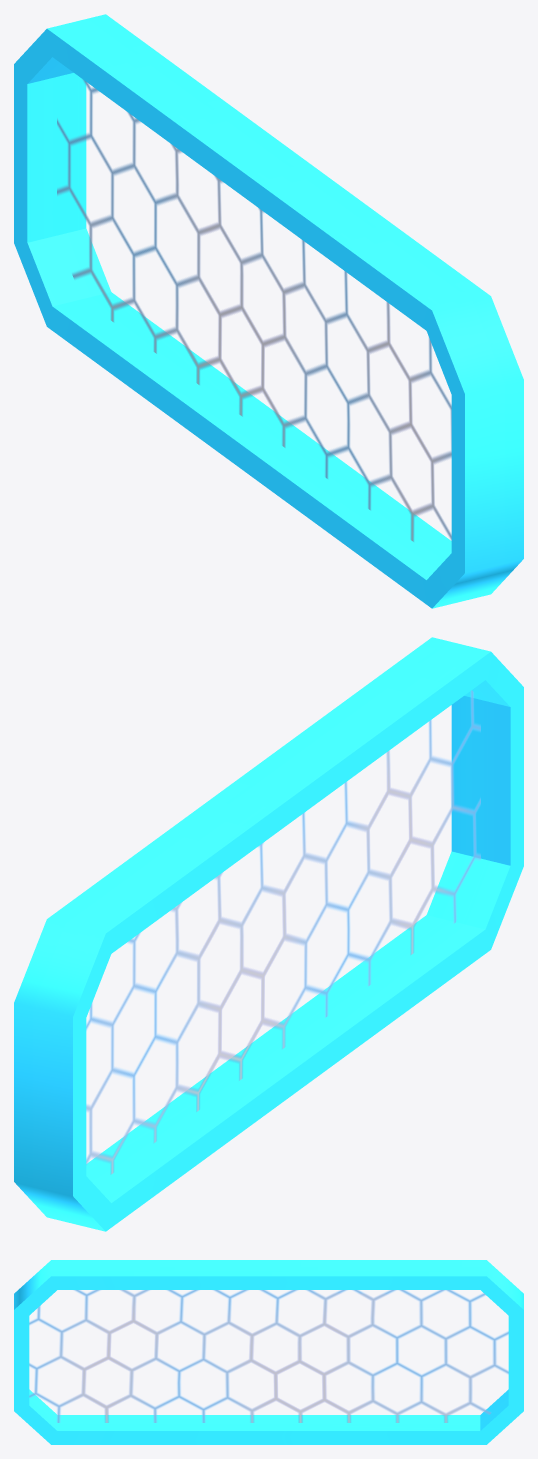
The model's file is s0_Floor00_B_Art_01.gltf.
The picture shows the model from 3 angles, top to bottom: view 1: azimuth 30°, elevation 25°; view 2: azimuth 150°, elevation 25°; view 3: azimuth 270°, elevation 25°; orthographic projection. The views are drawn at different scales.
Visible parts, largest first — view 1: node_Floor00_B_Art; view 2: node_Floor00_B_Art; view 3: node_Floor00_B_Art.
Boxes of the visible parts, x1,y1,x2,y2 form: node_Floor00_B_Art: [14, 14, 523, 608]; node_Floor00_B_Art: [14, 637, 523, 1231]; node_Floor00_B_Art: [14, 1260, 523, 1444].
Size of the model in its own units: 0.1593 by 0.7699 by 2.11.
